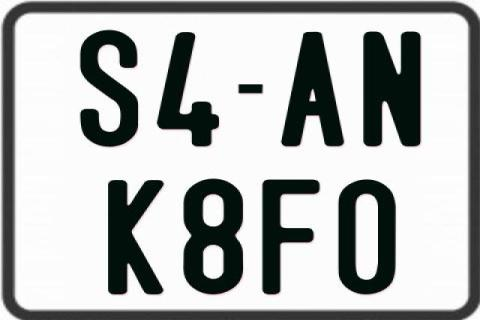0: (156, 31, 220, 151), (182, 177, 244, 297), (336, 180, 394, 300)
A: (280, 31, 350, 148)
F: (260, 178, 320, 298)
K: (105, 179, 163, 296)
N: (362, 31, 420, 147)
S: (79, 28, 141, 148)
